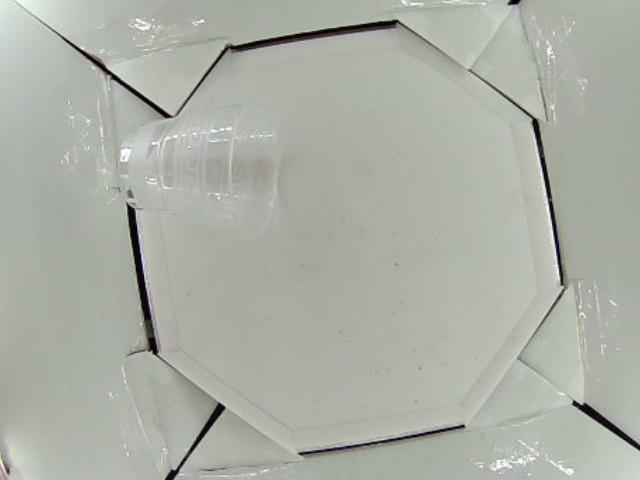Cup: (114, 105, 281, 240)
